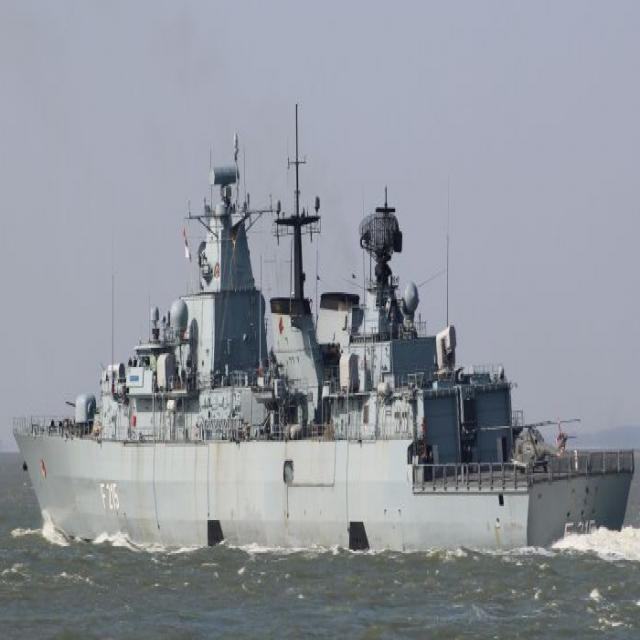Fragata: (6, 106, 640, 565)
